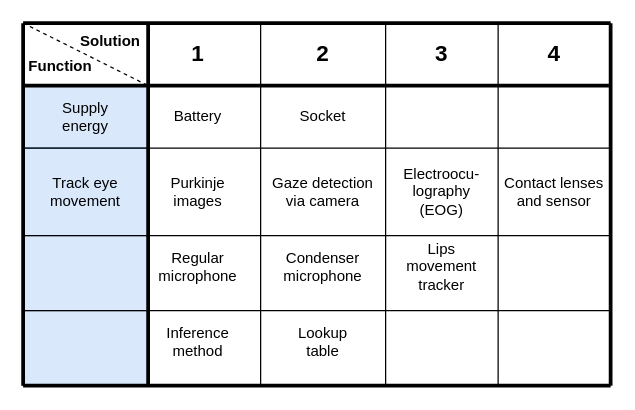
The diagram is 635 pixels wide and 410 high, and some of its shapes have lost their labels. Here are the shapes that lost their labels. From the top down, the centre of each, then its label:
[85,272]: Record voice
[85,347]: Interpret action
